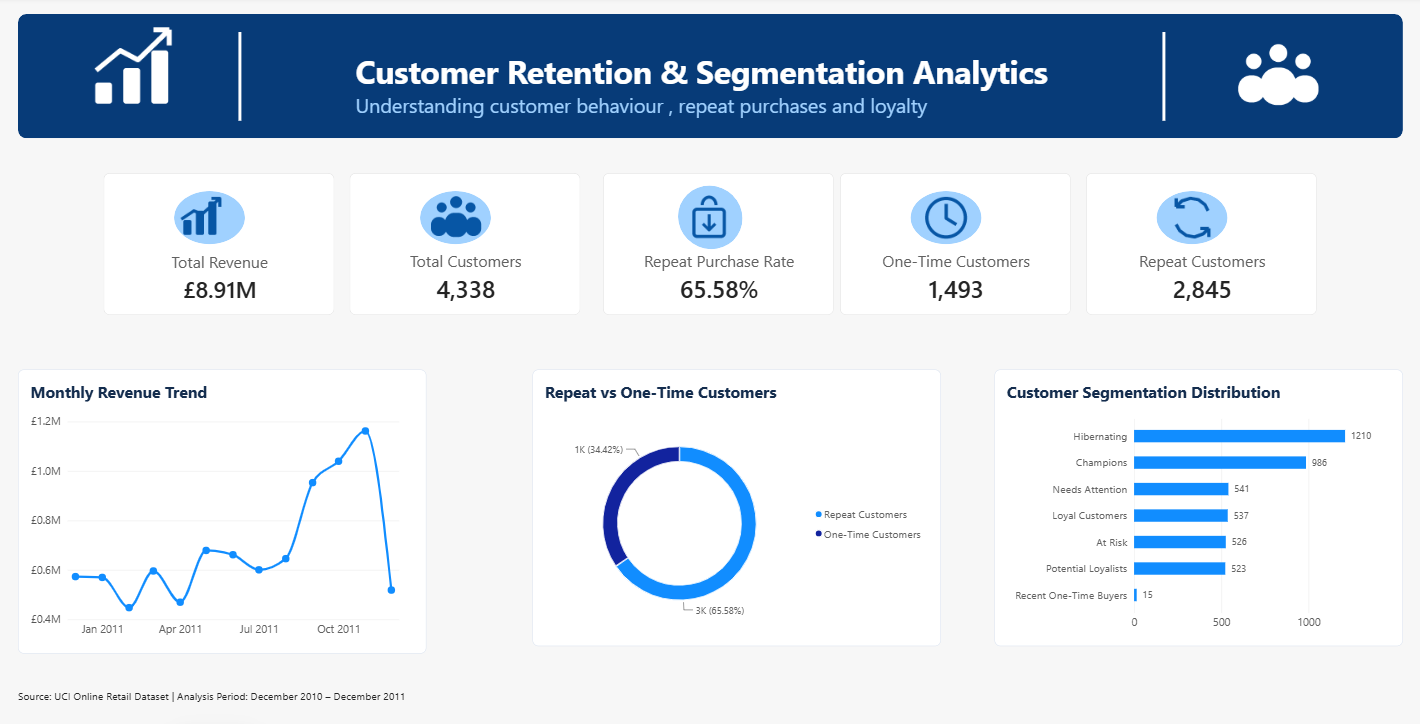

Layout of this report page (visuals, bound fields, positions):
{"tool":"powerbi","page":{"name":"Page 1","canvas":[1920,1080],"ordinal":0},"visuals":[{"type":"cardVisual","fields":{"Data":["Online_Retail_Clean.Total Revenue"]},"box":[140,240,312,192],"z":0,"group":"g1"},{"type":"cardVisual","fields":{"Data":["Online_Retail_Clean.Total Customers Display"]},"box":[472,240,312,192],"z":0,"group":"g3"},{"type":"lineChart","title":"Monthly Revenue Trend","fields":{"Category":["Online_Retail_Clean.Month Start.Variation.Date Hierarchy.Year","Online_Retail_Clean.Month Start.Variation.Date Hierarchy.Quarter","Online_Retail_Clean.Month Start.Variation.Date Hierarchy.Month","Online_Retail_Clean.Month Start.Variation.Date Hierarchy.Day"],"Y":["Online_Retail_Clean.Total Revenue"]},"box":[24,504,552,384],"z":0},{"type":"cardVisual","fields":{"Data":["Online_Retail_Clean.Repeat Purchase Rate"]},"box":[816,240,312,192],"z":2,"group":"g2"},{"type":"shape","box":[236,264,96,72],"z":8,"group":"g1"},{"type":"shape","box":[888,240,144,120],"z":12,"group":"g2"},{"type":"image","box":[236,264,72,72],"z":508,"group":"g1"},{"type":"image","box":[912,264,96,72],"z":512,"group":"g2"},{"type":"cardVisual","fields":{"Data":["Online_Retail_Clean.One-Time Customers Display"]},"box":[1136,240,312,192],"z":1000,"group":"g4"},{"type":"donutChart","title":"Repeat vs One-Time Customers","fields":{"Category":["Customer Type.Customer Type"],"Y":["Customer Type.Customer Count by Type"]},"box":[720,504,552,374],"z":1000},{"type":"clusteredBarChart","title":"Customer Segmentation Distribution","fields":{"Category":["RFM_Summary.RFM Segment"],"Y":["Sum(RFM_Summary.Customer Count)"]},"box":[1344,504,552,374],"z":2000},{"type":"group","id":"g1","title":"Group 1","box":[140,240,312,192],"z":3000},{"type":"group","id":"g2","title":"Group 2","box":[816,240,312,192],"z":4000},{"type":"group","id":"g3","title":"Group 3","box":[472,240,312,192],"z":5000},{"type":"shape","box":[1232,264,96,72],"z":5000,"group":"g4"},{"type":"group","id":"g4","title":"Group 4","box":[1136,240,312,192],"z":6000},{"type":"shape","box":[568,264,96,72],"z":6000,"group":"g3"},{"type":"group","id":"g5","title":"Group 5","box":[1468,240,312,192],"z":7000},{"type":"image","box":[472,264,288,72],"z":7000,"group":"g3"},{"type":"shape","box":[24,24,1872,168],"z":8000,"group":"g6"},{"type":"textbox","box":[480,72,1368,120],"z":9000,"group":"g6"},{"type":"image","box":[1232,264,96,72],"z":9000,"group":"g4"},{"type":"textbox","box":[24,936,648,72],"z":9000},{"type":"image","box":[1608,48,240,120],"z":9125,"group":"g6"},{"type":"image","box":[72,24,216,144],"z":9187,"group":"g6"},{"type":"shape","box":[168,48,312,120],"z":9250,"group":"g6"},{"type":"shape","box":[1416,48,312,120],"z":9500,"group":"g6"},{"type":"group","id":"g6","title":"Group 6","box":[24,24,1872,168],"z":10000},{"type":"cardVisual","fields":{"Data":["Online_Retail_Clean.Repeat Customers Display"]},"box":[1468,240,312,192],"z":11500,"group":"g5"},{"type":"shape","box":[1564,264,96,72],"z":12500,"group":"g5"},{"type":"image","box":[1564,264,96,72],"z":13000,"group":"g5"}]}

Visuals, with their boxes on the page's 1920x1080 design canvas (x1, y1, x2, y2). These are canvas units, not pixel positions in the 1420x724 screenshot, which may show the page scaled, cropped or inside an application window:
cardVisual - Online_Retail_Clean.Total Revenue: (left=140, top=240, right=452, bottom=432)
cardVisual - Online_Retail_Clean.Total Customers Display: (left=472, top=240, right=784, bottom=432)
"Monthly Revenue Trend" lineChart: (left=24, top=504, right=576, bottom=888)
cardVisual - Online_Retail_Clean.Repeat Purchase Rate: (left=816, top=240, right=1128, bottom=432)
shape: (left=236, top=264, right=332, bottom=336)
shape: (left=888, top=240, right=1032, bottom=360)
image: (left=236, top=264, right=308, bottom=336)
image: (left=912, top=264, right=1008, bottom=336)
cardVisual - Online_Retail_Clean.One-Time Customers Display: (left=1136, top=240, right=1448, bottom=432)
"Repeat vs One-Time Customers" donutChart: (left=720, top=504, right=1272, bottom=878)
"Customer Segmentation Distribution" clusteredBarChart: (left=1344, top=504, right=1896, bottom=878)
"Group 1" group: (left=140, top=240, right=452, bottom=432)
"Group 2" group: (left=816, top=240, right=1128, bottom=432)
"Group 3" group: (left=472, top=240, right=784, bottom=432)
shape: (left=1232, top=264, right=1328, bottom=336)
"Group 4" group: (left=1136, top=240, right=1448, bottom=432)
shape: (left=568, top=264, right=664, bottom=336)
"Group 5" group: (left=1468, top=240, right=1780, bottom=432)
image: (left=472, top=264, right=760, bottom=336)
shape: (left=24, top=24, right=1896, bottom=192)
textbox: (left=480, top=72, right=1848, bottom=192)
image: (left=1232, top=264, right=1328, bottom=336)
textbox: (left=24, top=936, right=672, bottom=1008)
image: (left=1608, top=48, right=1848, bottom=168)
image: (left=72, top=24, right=288, bottom=168)
shape: (left=168, top=48, right=480, bottom=168)
shape: (left=1416, top=48, right=1728, bottom=168)
"Group 6" group: (left=24, top=24, right=1896, bottom=192)
cardVisual - Online_Retail_Clean.Repeat Customers Display: (left=1468, top=240, right=1780, bottom=432)
shape: (left=1564, top=264, right=1660, bottom=336)
image: (left=1564, top=264, right=1660, bottom=336)
